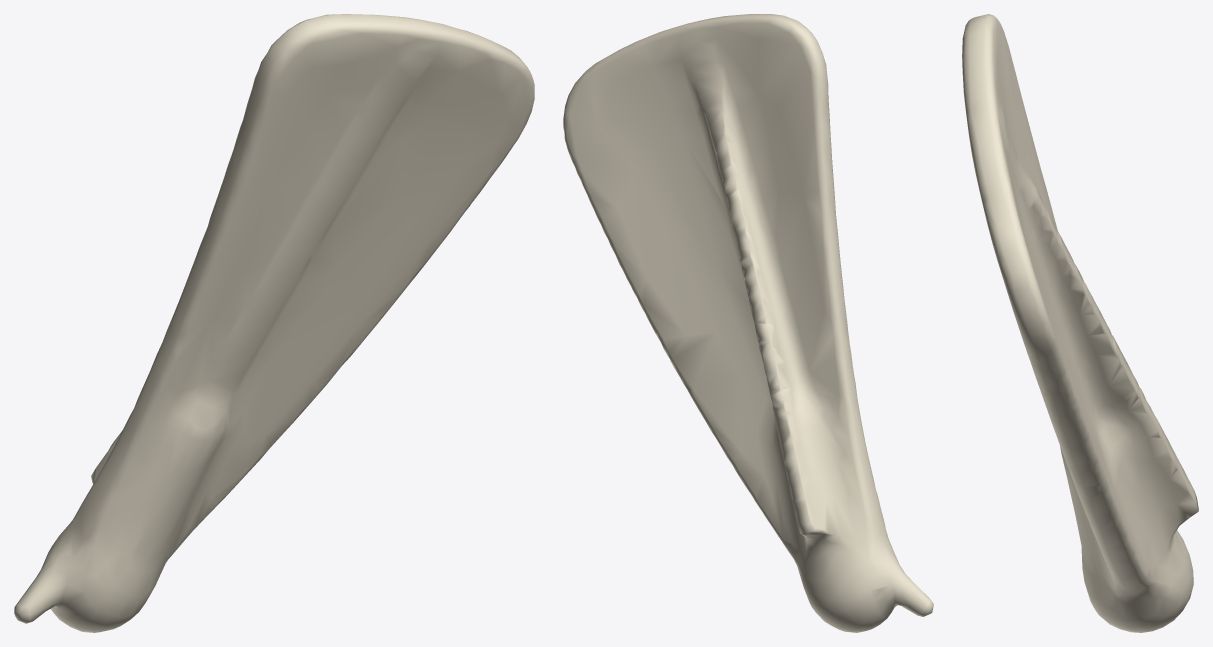
File: scapula_r.glb
3 views of the same model, side by side, from view 1: azimuth 30°, elevation 25°; view 2: azimuth 150°, elevation 25°; view 3: azimuth 270°, elevation 25° (orthographic). The views are drawn at different scales.
Parts seen in each view (by area): view 1: geometry_0; view 2: geometry_0; view 3: geometry_0.
Part boxes in pixels (left/top/right/bottom): geometry_0: left=14, top=14, right=534, bottom=632; geometry_0: left=563, top=14, right=933, bottom=632; geometry_0: left=962, top=14, right=1198, bottom=632.
Bounding box in the file's own units: 0.6141 × 0.7785 × 0.2423.
